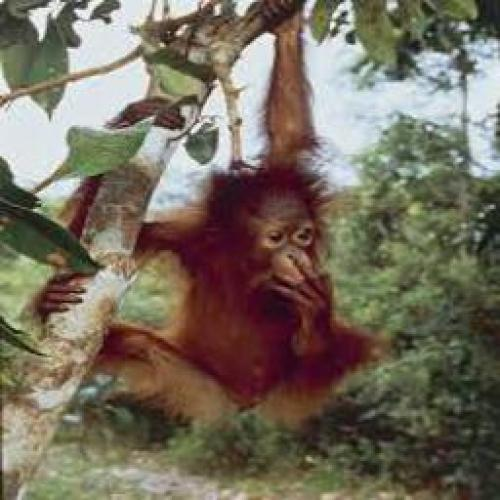orangutan-endangered: (44, 0, 402, 435)
